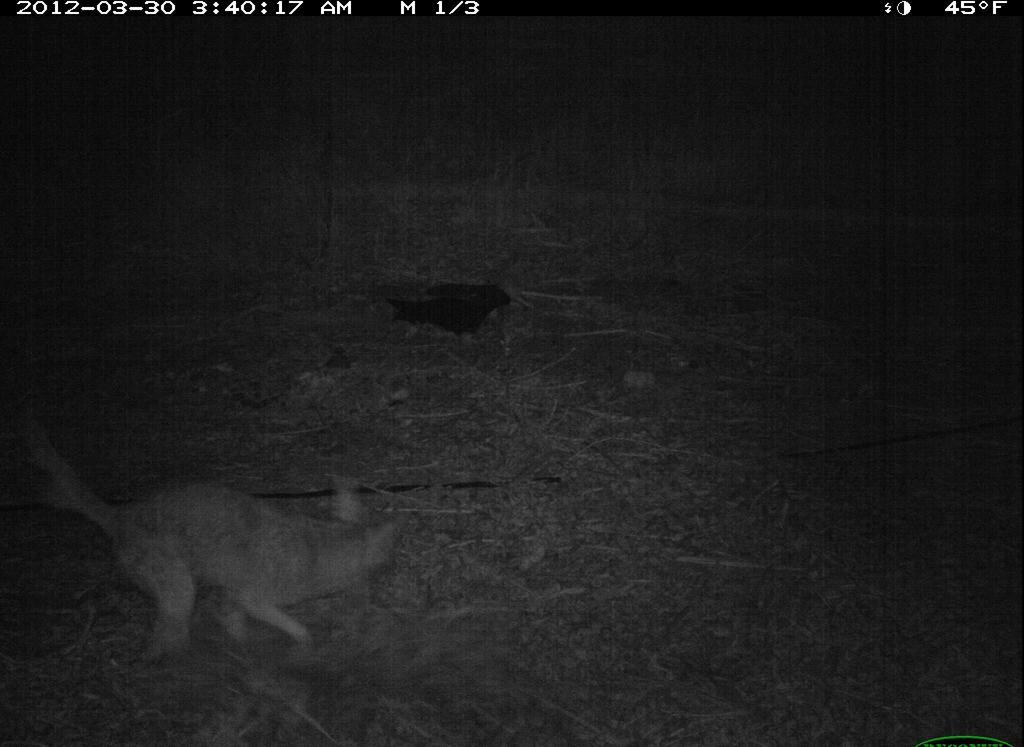coyote: (20, 417, 406, 670)
